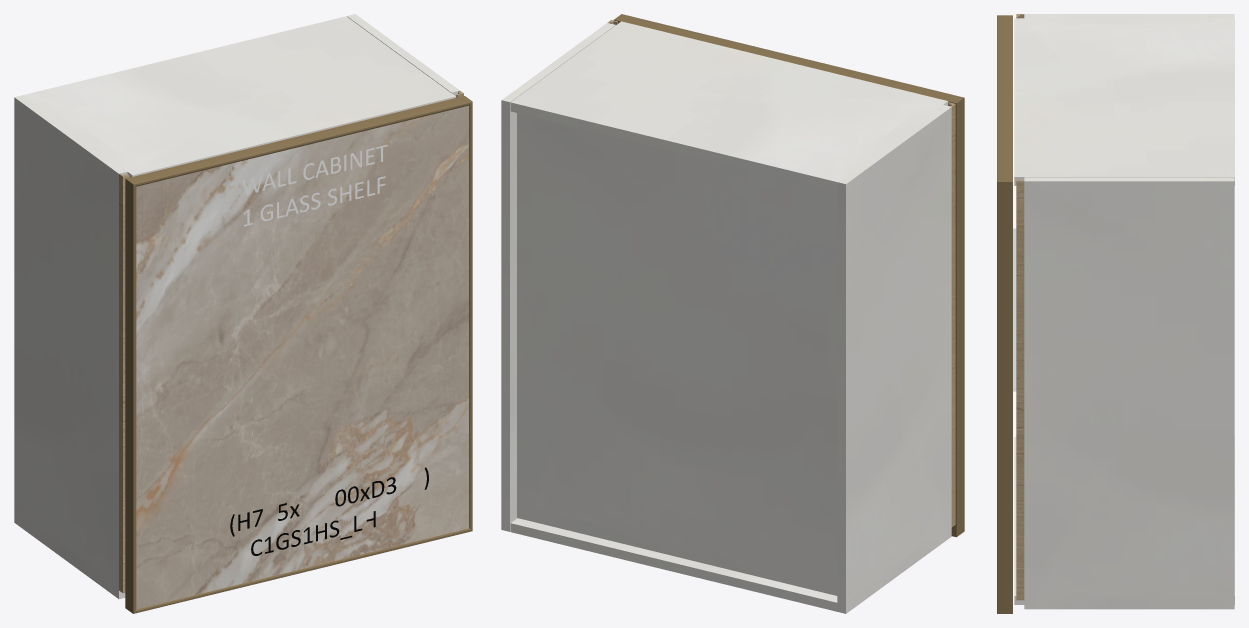
File: WC-SH-NHX-ST-1SG-LHS-XXX-600-725-336-15.glb
3 renders of one model, left to right at view 1: azimuth 30°, elevation 25°; view 2: azimuth 150°, elevation 25°; view 3: azimuth 270°, elevation 25°, orthographic.
Parts seen in each view (by area): view 1: Object_node_4, TP_node_0, TP, Extrusion_node_1, Extrusion, Object_node_6, 2D text_node, Extrusion_node, Extrusion_node_0, TP_node_1, 2D text_node_0, 2D text; view 2: TP_node_2, TP_node_0, TP, TP_node_1, TP_node, Extrusion_node_1, Extrusion, Object_node_6; view 3: TP_node_1, TP, Extrusion_node, Object_node_14, Extrusion, TP_node_0, TP_node, Object_node_1.
Part boxes in pixels (x1=…): Object_node_4: x1=136, y1=105, x2=468, y2=609; TP_node_0: x1=14, y1=95, x2=127, y2=599; TP: x1=23, y1=16, x2=455, y2=177; Extrusion_node_1: x1=125, y1=179, x2=136, y2=613; Extrusion: x1=126, y1=96, x2=472, y2=186; Object_node_6: x1=119, y1=173, x2=129, y2=593; 2D text_node: x1=242, y1=144, x2=387, y2=226; Extrusion_node: x1=469, y1=102, x2=472, y2=530; Extrusion_node_0: x1=134, y1=528, x2=472, y2=613; TP_node_1: x1=347, y1=14, x2=459, y2=97; 2D text_node_0: x1=230, y1=467, x2=428, y2=536; 2D text: x1=251, y1=511, x2=375, y2=555; TP_node_2: x1=517, y1=113, x2=837, y2=595; TP_node_0: x1=837, y1=105, x2=951, y2=613; TP: x1=510, y1=21, x2=948, y2=190; TP_node_1: x1=501, y1=23, x2=615, y2=531; TP_node: x1=510, y1=518, x2=837, y2=611; Extrusion_node_1: x1=951, y1=98, x2=964, y2=537; Extrusion: x1=614, y1=14, x2=963, y2=103; Object_node_6: x1=948, y1=102, x2=955, y2=527; TP_node_1: x1=1024, y1=177, x2=1234, y2=609; TP: x1=1014, y1=18, x2=1234, y2=185; Extrusion_node: x1=997, y1=182, x2=1012, y2=613; Object_node_14: x1=1016, y1=178, x2=1024, y2=600; Extrusion: x1=997, y1=15, x2=1012, y2=181; TP_node_0: x1=1024, y1=14, x2=1234, y2=18; TP_node: x1=1014, y1=437, x2=1234, y2=604; Object_node_1: x1=1013, y1=229, x2=1015, y2=390.
Size of what is drawn, in the model's own units: 0.6 by 0.7235 by 0.366.
Materials: 7 (3 with a texture image).
